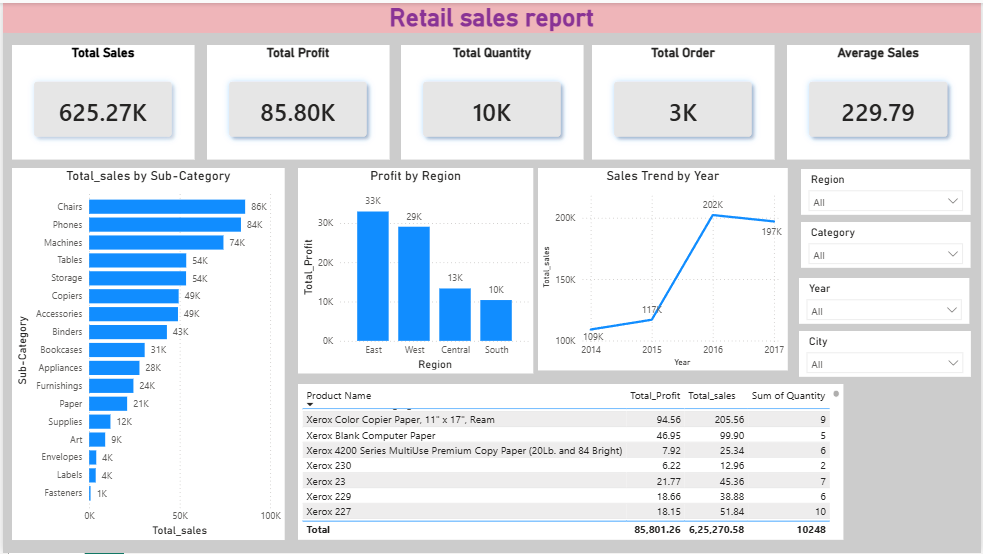

The dashboard page shown, as its layout file describes it:
{"tool":"powerbi","page":{"name":"Page 1","canvas":[1280,720],"ordinal":0},"visuals":[{"type":"textbox","title":"Retail sales report","box":[0,0,1280,38.6],"z":0},{"type":"cardVisual","title":"Total Sales","fields":{"Data":["Table1.Total_sales"]},"box":[11.8,55.4,238.5,149.5],"z":1000},{"type":"cardVisual","title":"Total Profit","fields":{"Data":["Table1.Total_Profit"]},"box":[267.1,55.4,238.5,149.5],"z":2000},{"type":"cardVisual","title":"Total Quantity","fields":{"Data":["Table1.Total_quanity"]},"box":[520.7,55.4,238.5,149.5],"z":3000},{"type":"cardVisual","title":"Total Order","fields":{"Data":["Table1.Total_order"]},"box":[771,55.4,238.5,149.5],"z":4000},{"type":"cardVisual","title":"Average Sales","fields":{"Data":["Table1.Average"]},"box":[1026.7,54.7,239,149.8],"z":5000},{"type":"lineChart","fields":{"Category":["Table1.Order Date.Variation.Date Hierarchy.Year","Table1.Order Date.Variation.Date Hierarchy.Quarter","Table1.Order Date.Variation.Date Hierarchy.Month","Table1.Order Date.Variation.Date Hierarchy.Day"],"Y":["Table1.Total_sales"]},"box":[699.8,216,326.9,265],"z":6000},{"type":"clusteredBarChart","fields":{"Y":["Table1.Total_sales"],"Category":["Table1.Sub-Category"]},"box":[11.5,216,357.1,486.7],"z":7000},{"type":"columnChart","fields":{"Y":["Table1.Total_Profit"],"Category":["Table1.Region"]},"box":[385.9,216,308.2,269.3],"z":8000},{"type":"tableEx","fields":{"Values":["Table1.Product Name","Table1.Total_Profit","Table1.Total_sales","Sum(Table1.Quantity)"]},"box":[385.9,498.2,734.4,221.8],"z":10000},{"type":"slicer","fields":{"Values":["Table1.Region"]},"box":[1044.8,216.7,221.7,60.5],"z":11000},{"type":"slicer","fields":{"Values":["Table1.Sub-Category"]},"box":[1044.8,287.2,221.7,60.5],"z":12000},{"type":"slicer","fields":{"Values":["Table1.Ship Date.Variation.Date Hierarchy.Year"]},"box":[1042.6,360,223.2,60.5],"z":13000},{"type":"slicer","fields":{"Values":["Table1.City"]},"box":[1042.6,429.1,224.6,60.5],"z":13001}]}

Visuals, with their boxes in screenshot pixels (x1, y1, x2, y2), scaled from the page's 1280x720 canvas onto the 983x554 screenshot:
"Retail sales report" textbox: (0,0,982,30)
"Total Sales" cardVisual: (9,43,192,158)
"Total Profit" cardVisual: (205,43,388,158)
"Total Quantity" cardVisual: (400,43,583,158)
"Total Order" cardVisual: (592,43,775,158)
"Average Sales" cardVisual: (788,42,972,157)
lineChart - Table1.Order Date.Variation.Date Hierarchy.Year x Table1.Order Date.Variation.Date Hierarchy.Quarter: (537,166,788,370)
clusteredBarChart - Table1.Total_sales x Table1.Sub-Category: (9,166,283,541)
columnChart - Table1.Total_Profit x Table1.Region: (296,166,533,373)
tableEx - Table1.Product Name x Table1.Total_Profit: (296,383,860,553)
slicer - Table1.Region: (802,167,973,213)
slicer - Table1.Sub-Category: (802,221,973,268)
slicer - Table1.Ship Date.Variation.Date Hierarchy.Year: (801,277,972,324)
slicer - Table1.City: (801,330,973,377)
